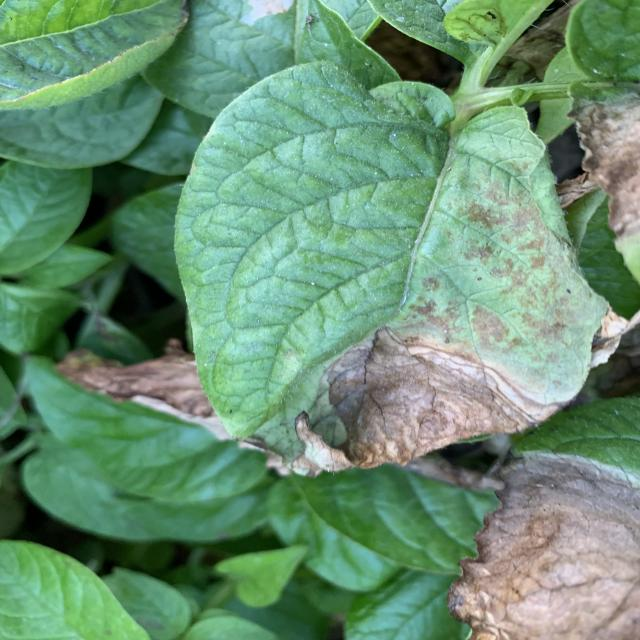lateblight: (290, 328, 567, 476), (435, 178, 607, 392)
